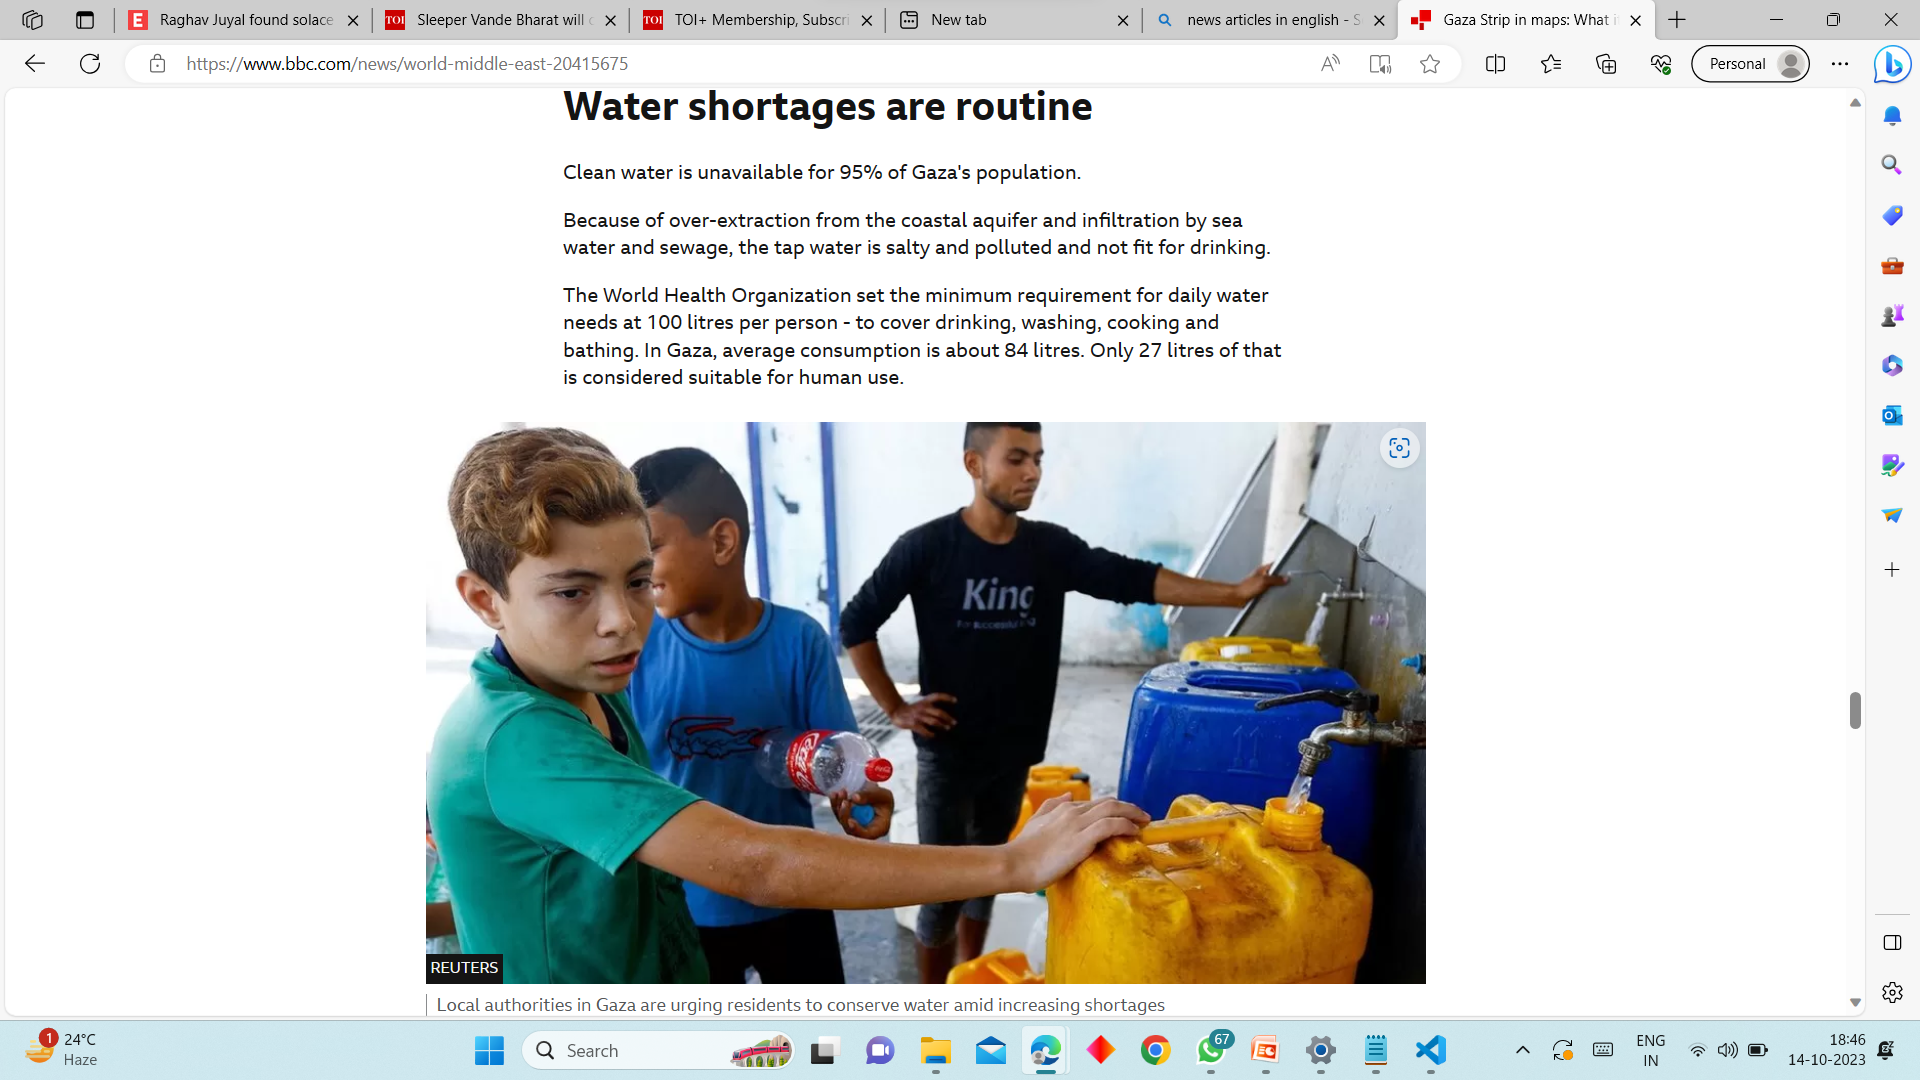Image: (427, 398, 1427, 986)
Paragraph: (563, 268, 1299, 401), (562, 199, 1270, 261), (546, 87, 1113, 125), (418, 988, 1167, 1015), (555, 154, 1102, 186)
